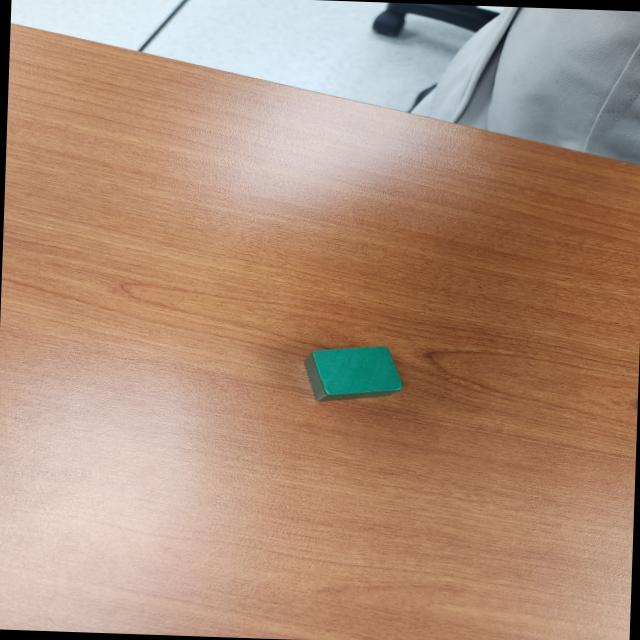green: (302, 343, 404, 402)
